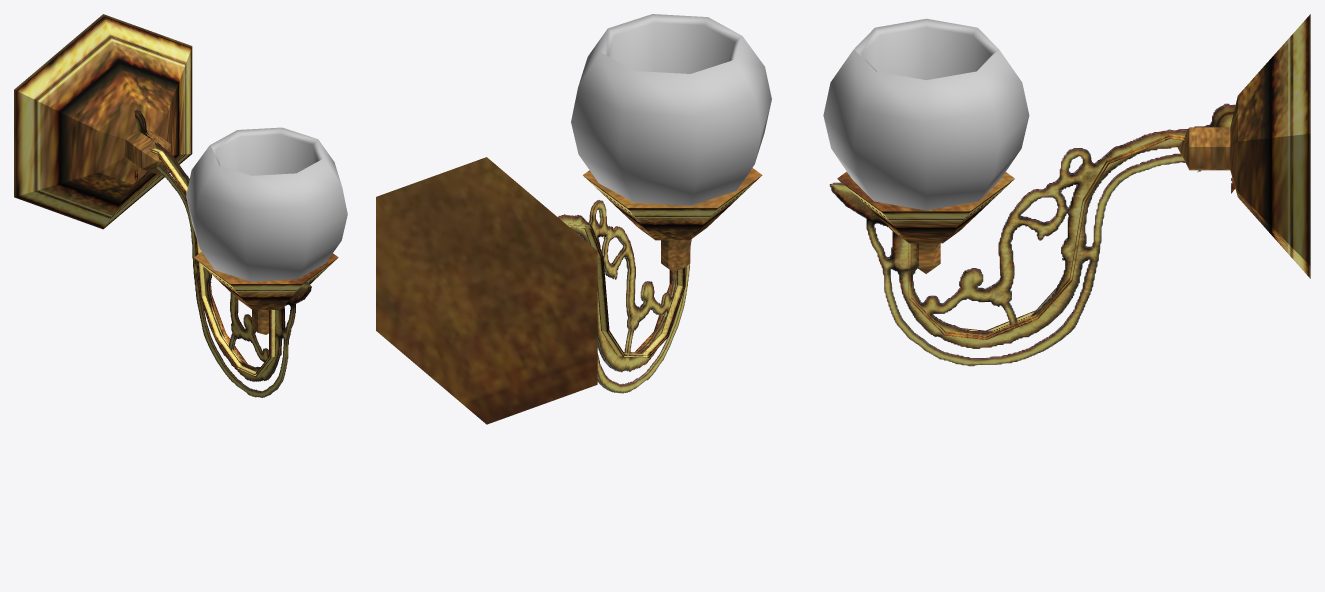
The model's file is GaslampServantSconce.fbx.
3 views of the same model, side by side, from view 1: azimuth 30°, elevation 25°; view 2: azimuth 150°, elevation 25°; view 3: azimuth 270°, elevation 25° (orthographic). The views are drawn at different scales.
Visible parts, largest first — view 1: Gaslight_Servant_Sconce_LOD0; view 2: Gaslight_Servant_Sconce_LOD0; view 3: Gaslight_Servant_Sconce_LOD0.
Part boxes in pixels (bbox=[...]): Gaslight_Servant_Sconce_LOD0: bbox=[14, 14, 347, 397]; Gaslight_Servant_Sconce_LOD0: bbox=[376, 14, 771, 424]; Gaslight_Servant_Sconce_LOD0: bbox=[823, 14, 1310, 366].
Size of what is drawn, in the model's own units: 72.69 by 177 by 146.
